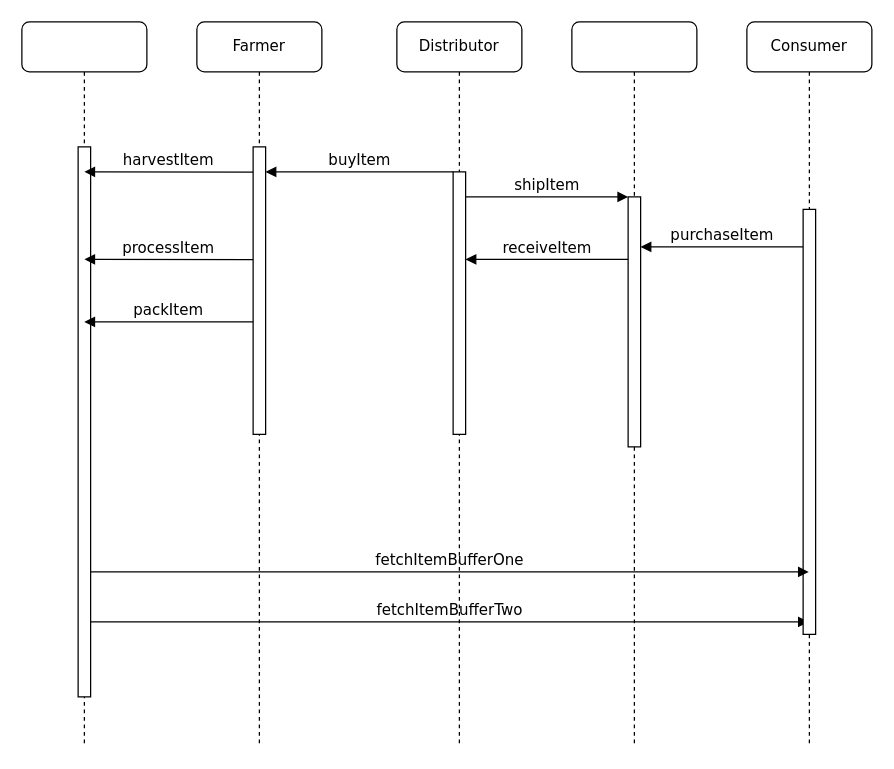
Some shapes in this 894 by 769 pixel diagram are drawn without their labels. Here are the shapes that lost their labels. From the top down, the box of each, then its label:
(21, 21, 147, 747): Coffee
(571, 21, 697, 747): Retailer
